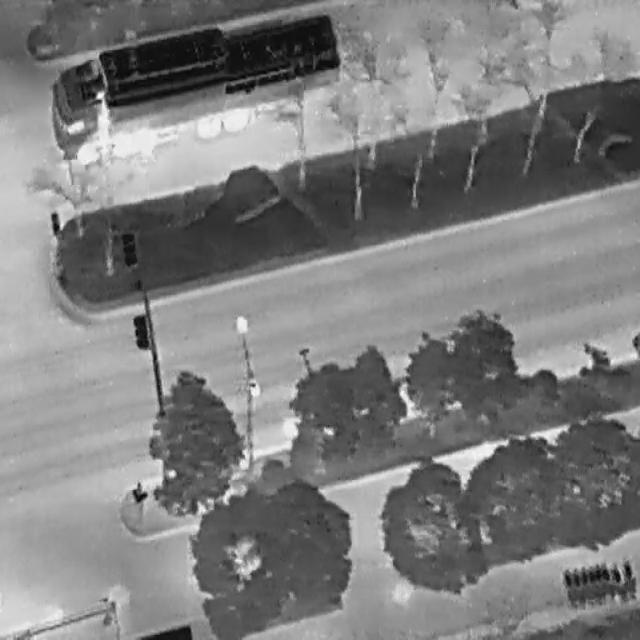Bicycle: (618, 555, 638, 600), (607, 561, 626, 601), (561, 568, 576, 608), (568, 565, 583, 605), (575, 562, 590, 602), (583, 562, 598, 602), (591, 560, 606, 600), (598, 561, 613, 601)
OtherVehicle: (43, 0, 346, 165)
Person: (129, 477, 146, 525)
